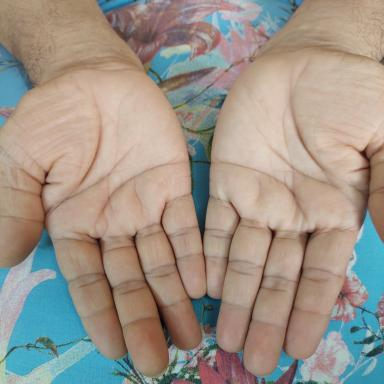normal skin: (1, 0, 383, 377)
